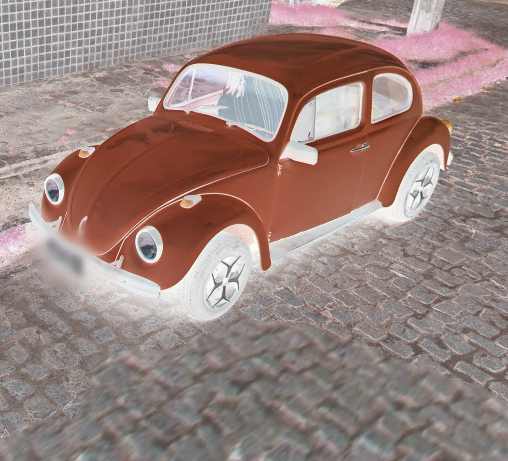car: (28, 31, 456, 324)
